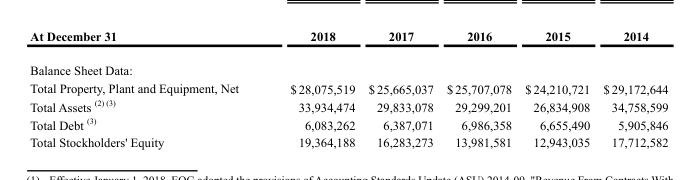table: (29, 28, 667, 149)
table column: (29, 28, 263, 149), (263, 28, 361, 149), (361, 28, 439, 149), (439, 28, 517, 149), (517, 28, 595, 149), (595, 28, 667, 149)
table column header: (29, 28, 667, 52)
table projected row header: (29, 52, 667, 78)
table row: (29, 52, 667, 78), (29, 28, 667, 52), (29, 114, 667, 133), (29, 78, 667, 96), (29, 96, 667, 114), (29, 133, 667, 149)
